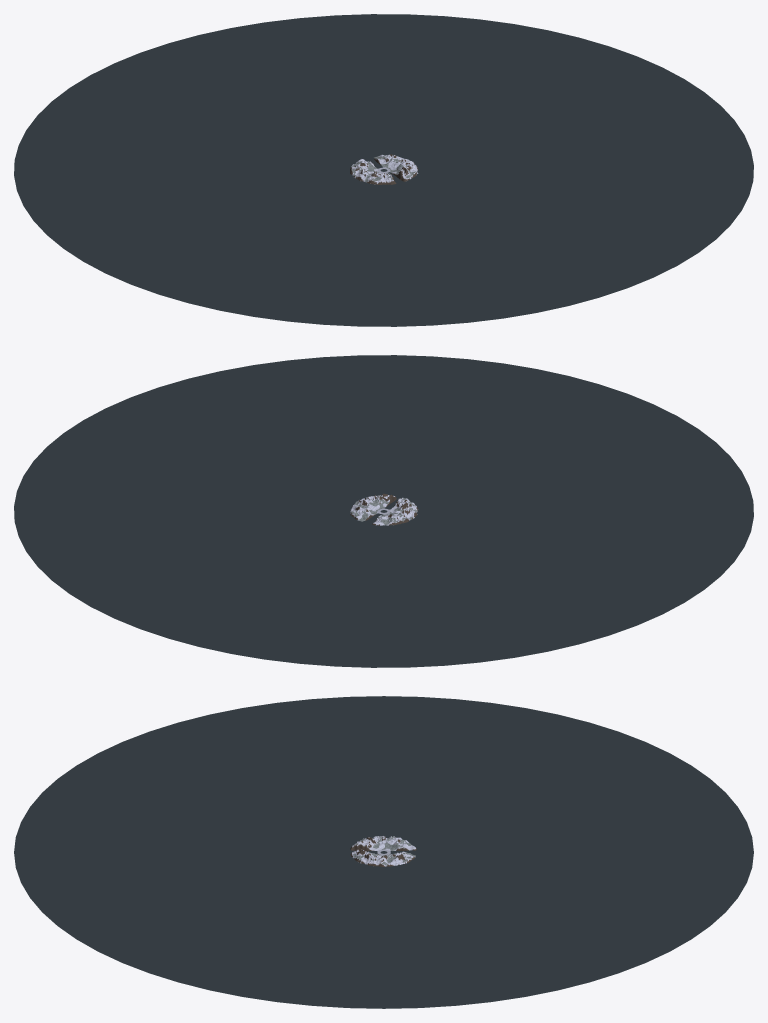
The model's file is backdrop_near_c52_winter.glb.
3 renders of one model, top to bottom at view 1: azimuth 30°, elevation 25°; view 2: azimuth 150°, elevation 25°; view 3: azimuth 270°, elevation 25°, orthographic.
Visible parts, largest first — view 1: water_N, water_S, water_W, water_E; view 2: water_N, water_S, water_W, water_E; view 3: water_E, water_N, water_S, water_W.
Part boxes in pixels (box(x1,y1,x2,y2)): water_N: box(26, 14, 479, 170); water_S: box(288, 170, 741, 326); water_W: box(14, 130, 383, 321); water_E: box(384, 19, 753, 210); water_N: box(26, 511, 479, 667); water_S: box(288, 355, 741, 511); water_W: box(384, 471, 753, 662); water_E: box(14, 360, 383, 551); water_E: box(123, 852, 644, 1008); water_N: box(384, 742, 753, 962); water_S: box(14, 742, 383, 962); water_W: box(123, 696, 644, 852).
Size of the model in its own units: 6000 by 168 by 6000.
4 materials, 3 textured.
